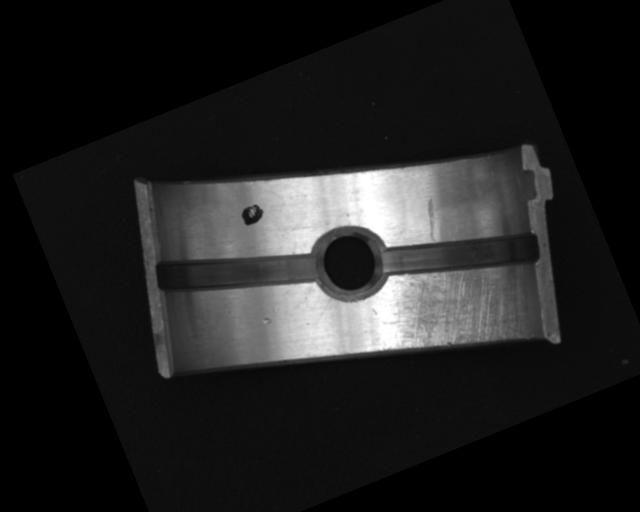blot: (237, 200, 267, 229)
bruise: (260, 314, 273, 327)
gap: (150, 207, 324, 337), (375, 195, 544, 316)
hole: (303, 215, 396, 310)
nick: (415, 196, 448, 245), (308, 295, 340, 326)
scratch: (367, 233, 549, 391)
